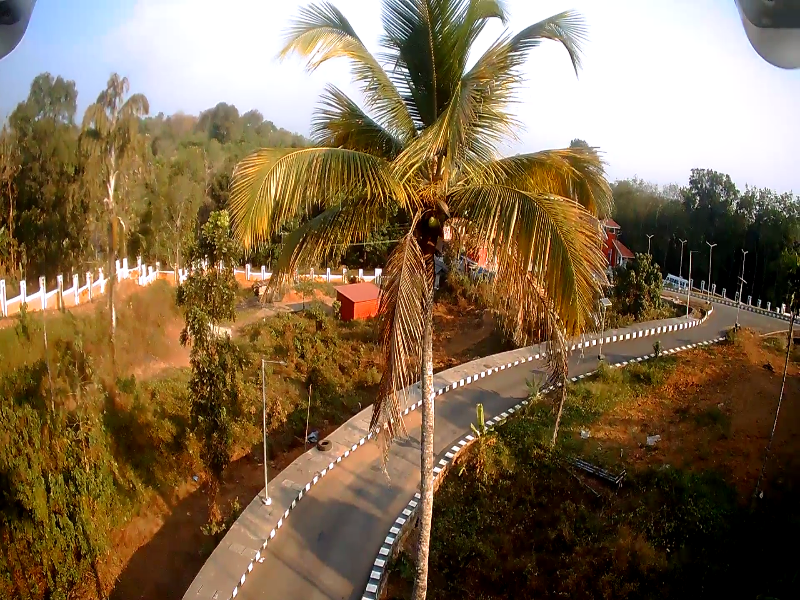coconut: (429, 217, 435, 227)
